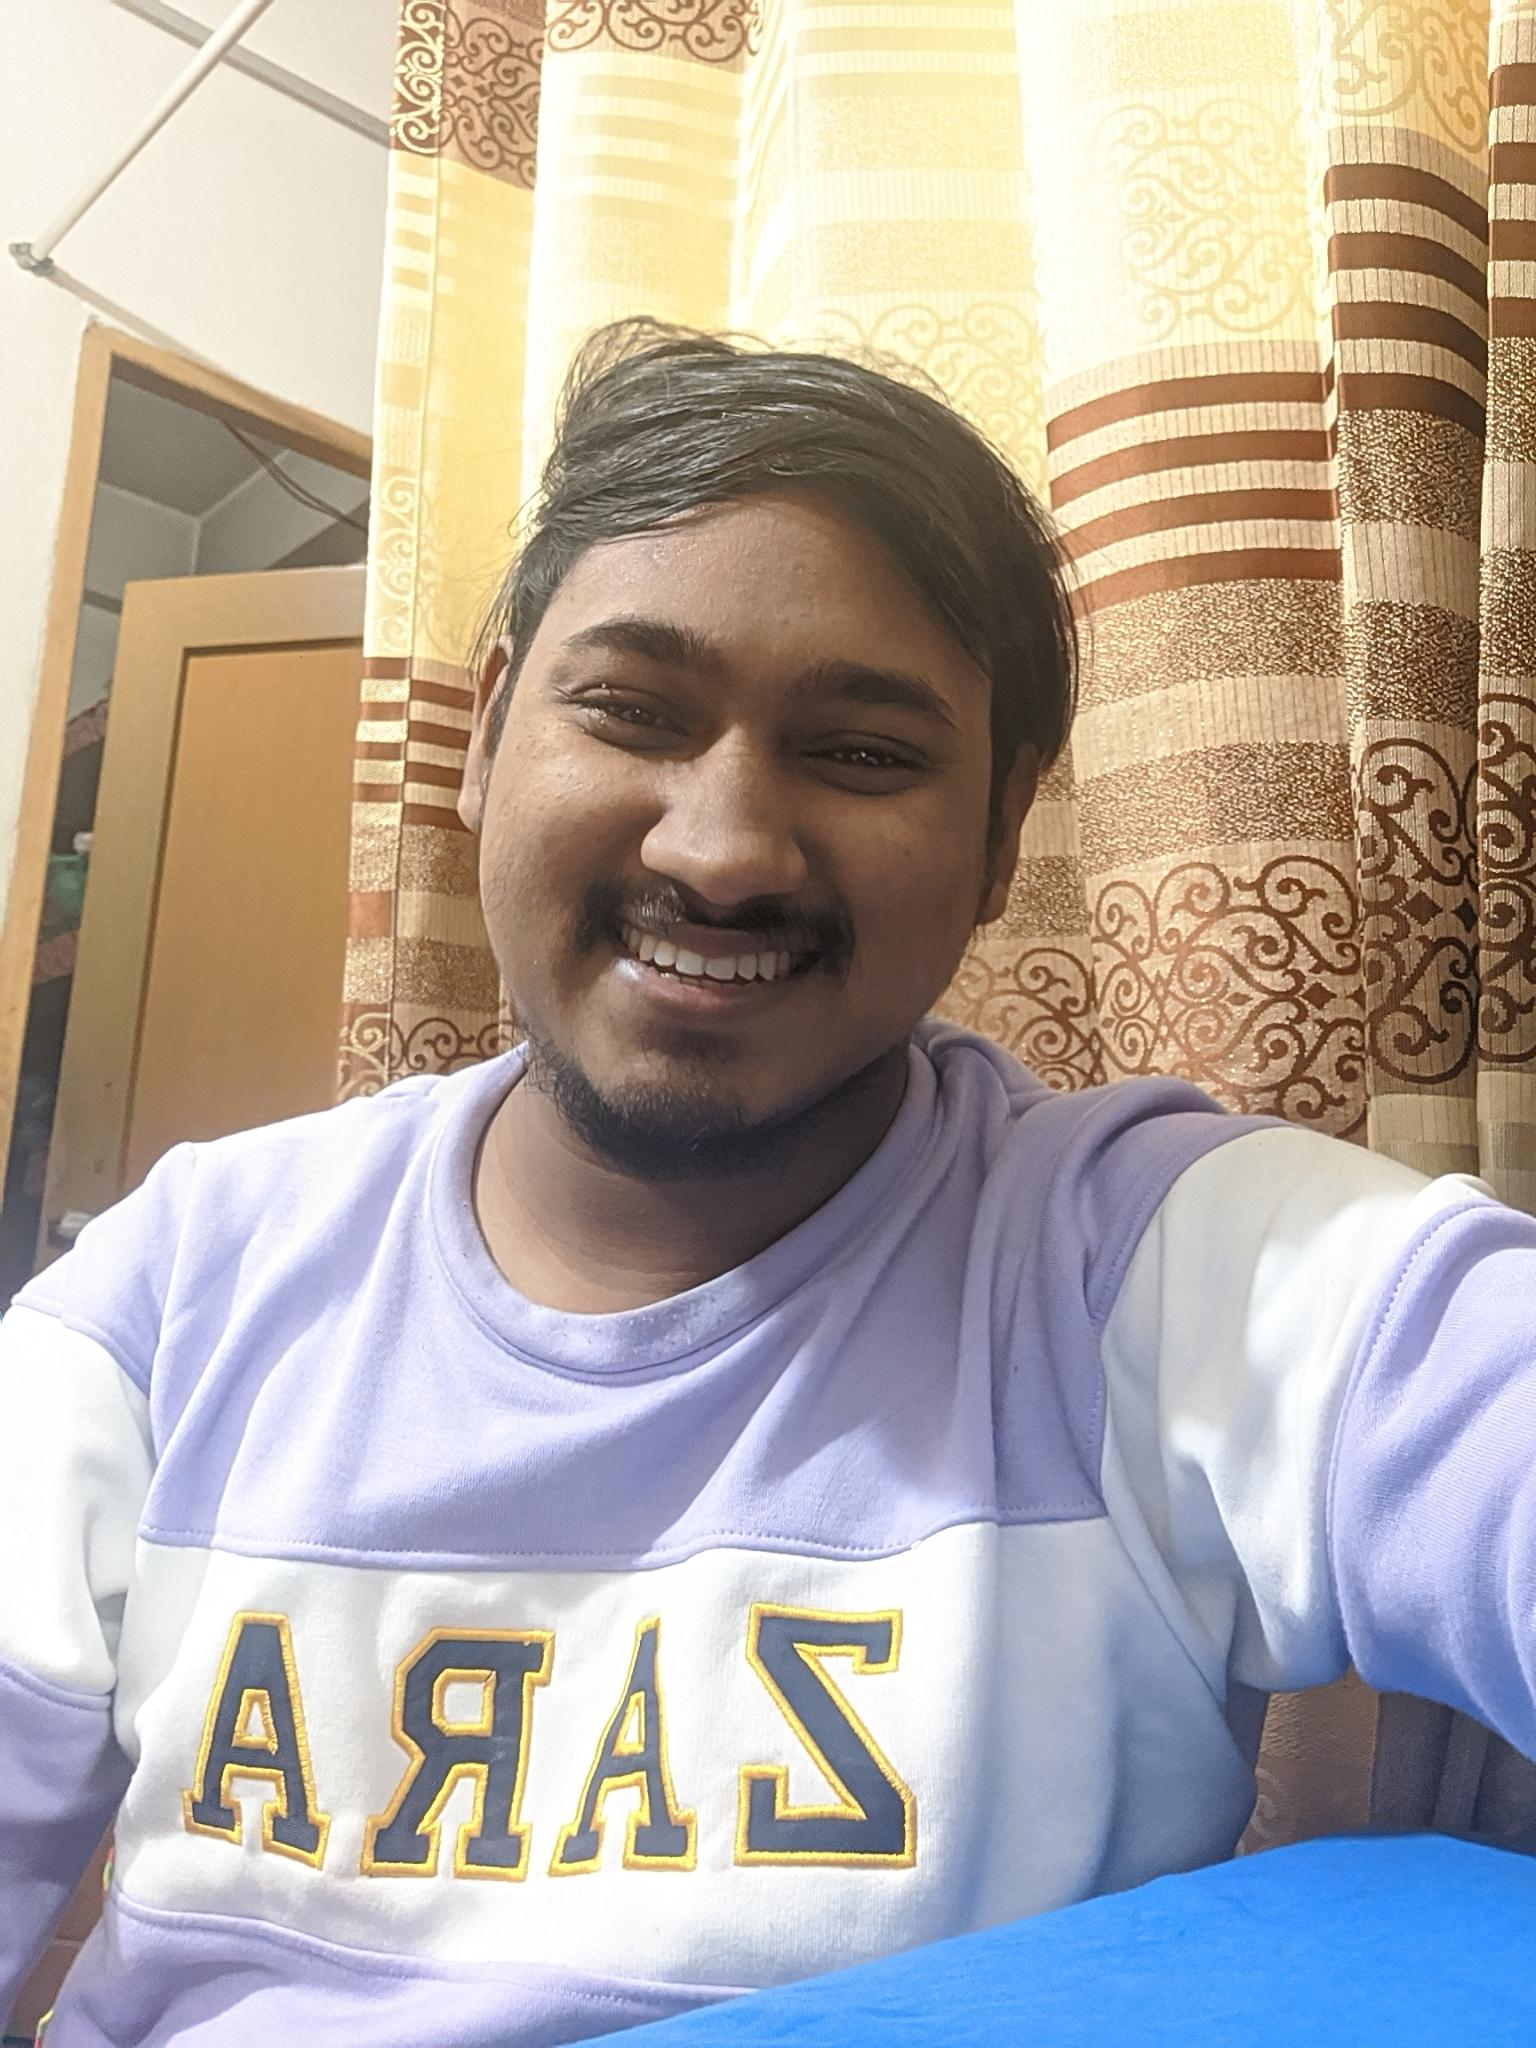Happy: (508, 556, 992, 1113)
